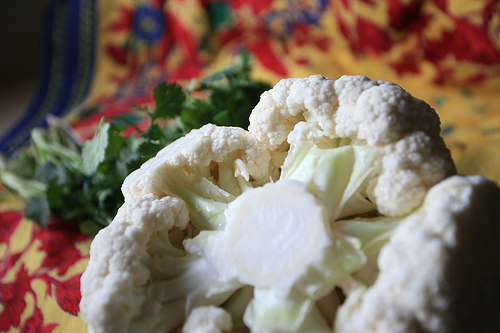cauliflower: (76, 74, 494, 329)
